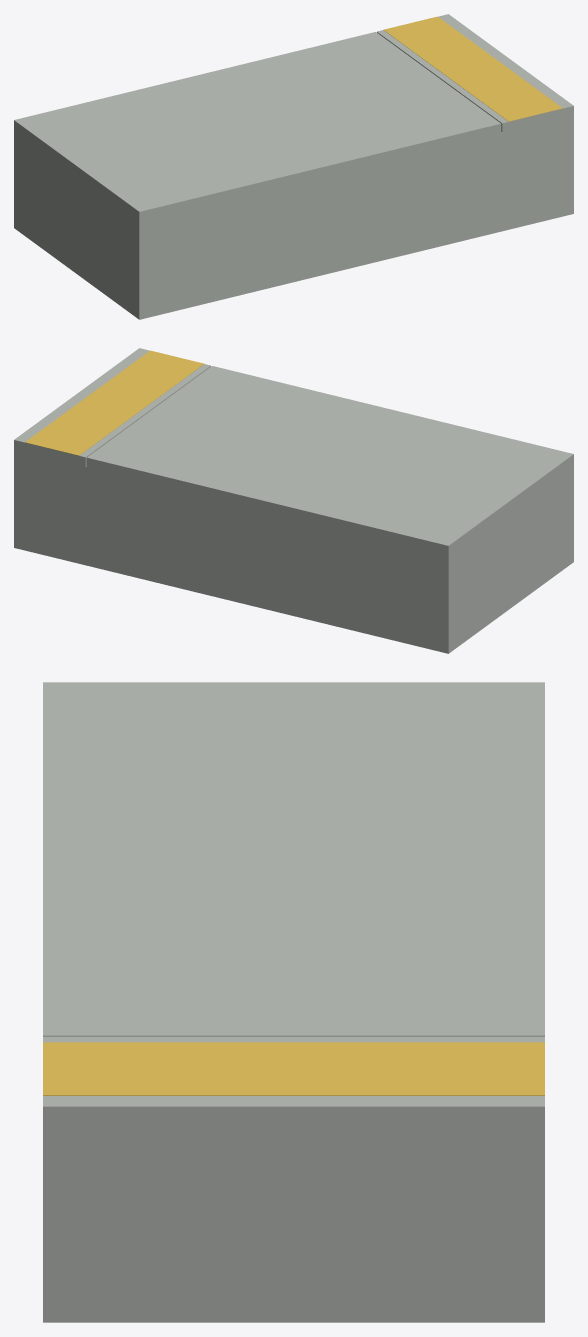
File: platform-edge-2m.lod1.glb
3 renders of one model, top to bottom at view 1: azimuth 30°, elevation 25°; view 2: azimuth 150°, elevation 25°; view 3: azimuth 270°, elevation 25°, orthographic. The views are drawn at different scales.
Visible parts, largest first — view 1: module-batch-concrete, module-batch-tactile-yellow; view 2: module-batch-concrete, module-batch-tactile-yellow; view 3: module-batch-concrete, module-batch-tactile-yellow.
Boxes of the visible parts, x1,y1,x2,y2 form: module-batch-concrete: (14,14,573,319); module-batch-tactile-yellow: (383,16,562,121); module-batch-concrete: (14,348,573,653); module-batch-tactile-yellow: (25,350,204,455); module-batch-concrete: (43,682,544,1322); module-batch-tactile-yellow: (43,1042,544,1095).
Size of the model in its own units: 4 by 0.952 by 2.
